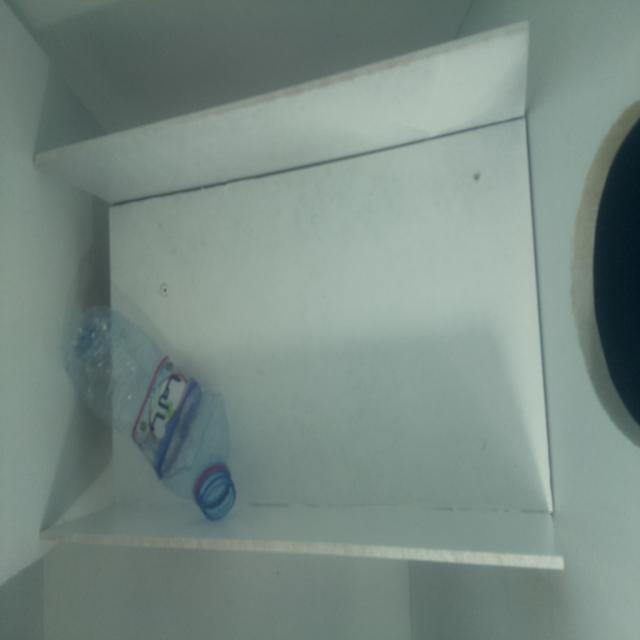Anorganik: (56, 298, 246, 522)
